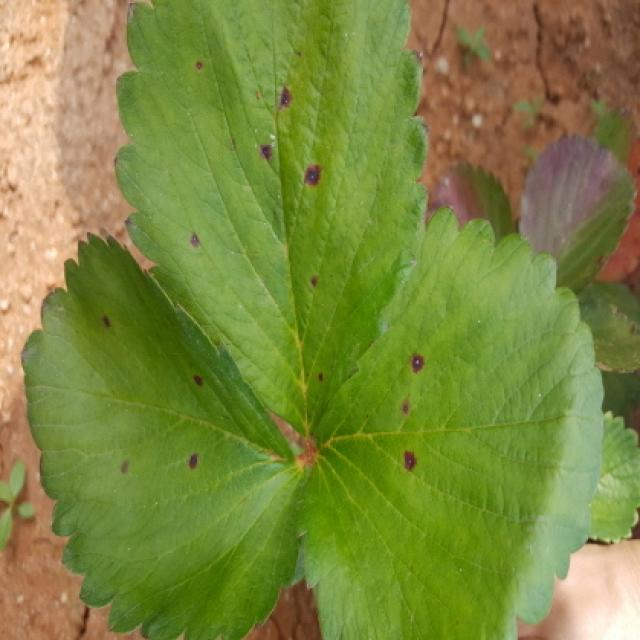Leaf Spot: (113, 0, 430, 440), (301, 206, 606, 638), (19, 231, 306, 638)
